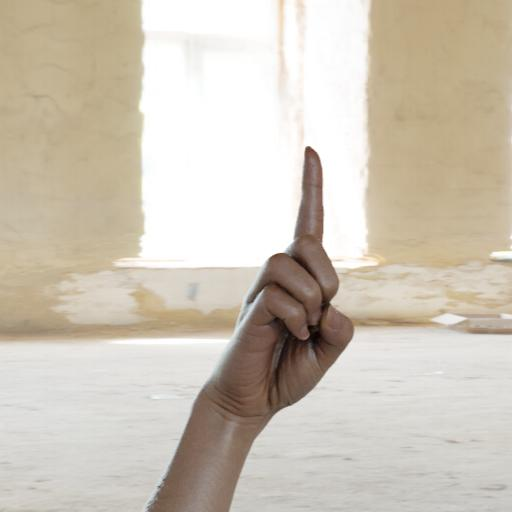D: (198, 142, 362, 424)
